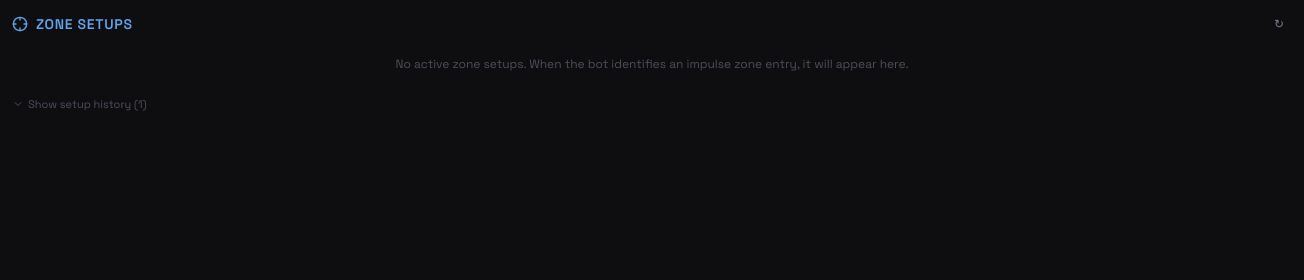
Test: unfilled orders say why › a legacy cancel without a typed reason is not forced into a category
This screenshot has width=1304, height=280.
Click the button "Show setup history (1)" at (79,104), box [12,96,147,112]
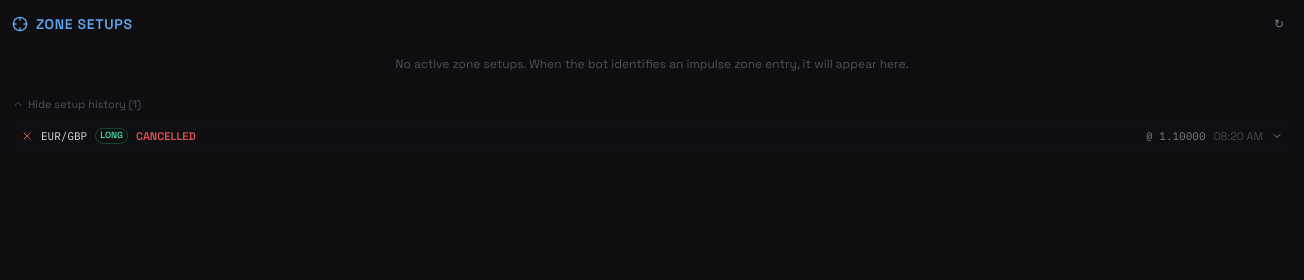
Now the text "CANCELLED" is shown, box [136,128,196,144]
Click the button "EUR/GBP LONG CANCELLED @ 1.10000 08:20 AM" at (64,136), box [13,122,1291,150]
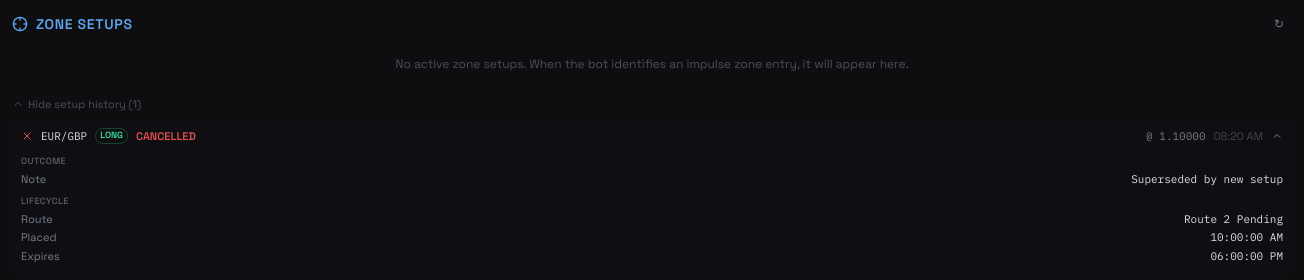
Now the text "Superseded by new setup" is shown, box [1131,170,1283,187]
